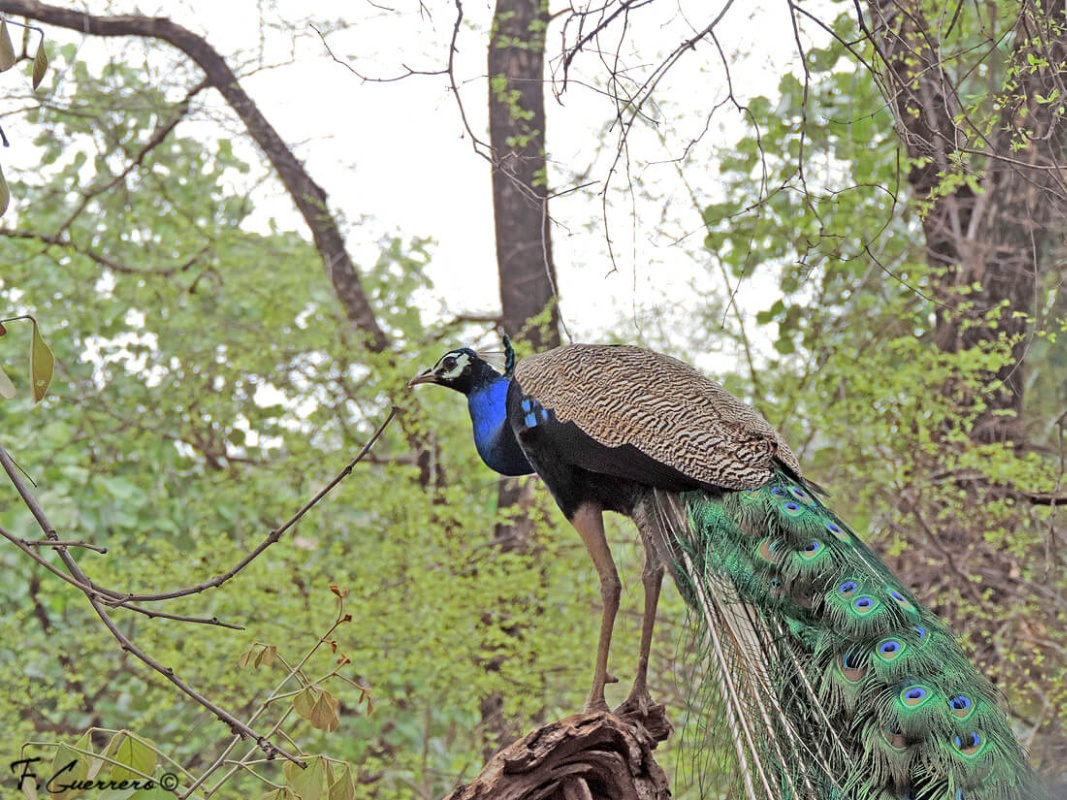pavoreal: (428, 344, 706, 509)
